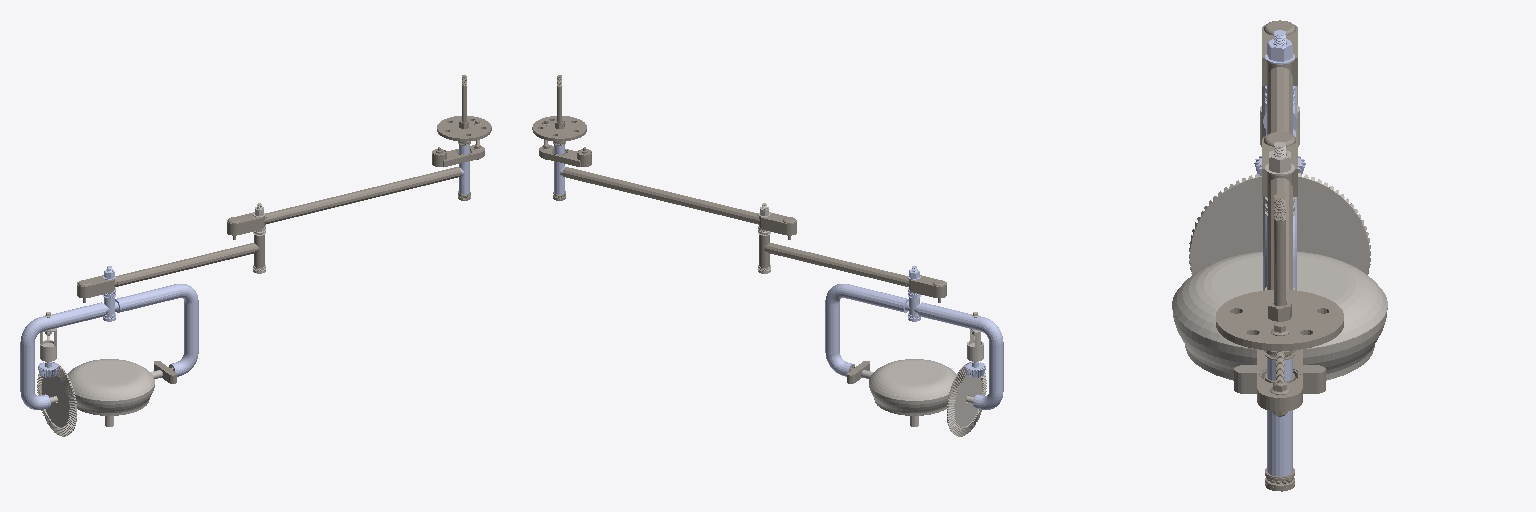
URDF robot description (ot2):
<?xml version="1.0" encoding="utf-8"?>
<!-- This URDF was automatically created by SolidWorks to URDF Exporter! Originally created by [author] ([email redacted]) 
     Commit Version: 1.6.0-1-g15f4949  Build Version: 1.6.7594.29634
     For more information, please see http://wiki.ros.org/sw_urdf_exporter -->
<robot
  name="ot2">
  <link
    name="b">
    <inertial>
      <origin
        xyz="-0.010823 0.051046 -9.2894E-09"
        rpy="0 0 0" />
      <mass
        value="0.59308" />
      <inertia
        ixx="0.0020054"
        ixy="-6.0542E-06"
        ixz="3.485E-09"
        iyy="0.0012416"
        iyz="-7.1475E-10"
        izz="0.0023392" />
    </inertial>
    <visual>
      <origin
        xyz="0 0 0"
        rpy="0 0 0" />
      <geometry>
        <mesh
          filename="package://ot2/meshes/b.STL" />
      </geometry>
      <material
        name="">
        <color
          rgba="0.64706 0.61961 0.58824 1" />
      </material>
    </visual>
    <collision>
      <origin
        xyz="0 0 0"
        rpy="0 0 0" />
      <geometry>
        <mesh
          filename="package://ot2/meshes/b.STL" />
      </geometry>
    </collision>
  </link>
  <link
    name="p1">
    <inertial>
      <origin
        xyz="0.0021162 -4.5735E-08 0.065639"
        rpy="0 0 0" />
      <mass
        value="0.036515" />
      <inertia
        ixx="8.7543E-05"
        ixy="2.8658E-11"
        ixz="-7.2267E-07"
        iyy="8.9539E-05"
        iyz="3.6532E-11"
        izz="1.1438E-05" />
    </inertial>
    <visual>
      <origin
        xyz="0 0 0"
        rpy="0 0 0" />
      <geometry>
        <mesh
          filename="package://ot2/meshes/p1.STL" />
      </geometry>
      <material
        name="">
        <color
          rgba="0.79216 0.81961 0.93333 1" />
      </material>
    </visual>
    <collision>
      <origin
        xyz="0 0 0"
        rpy="0 0 0" />
      <geometry>
        <mesh
          filename="package://ot2/meshes/p1.STL" />
      </geometry>
    </collision>
  </link>
  <joint
    name="p1_b"
    type="revolute">
    <origin
      xyz="0 0 0.0743"
      rpy="0 0 3.1416" />
    <parent
      link="b" />
    <child
      link="p1" />
    <axis
      xyz="0 0 0" />
    <limit
      lower="0"
      upper="0"
      effort="0"
      velocity="0" />
  </joint>
  <link
    name="p2">
    <inertial>
      <origin
        xyz="-0.00032582 8.1858E-05 0.094149"
        rpy="0 0 0" />
      <mass
        value="0.36223" />
      <inertia
        ixx="0.0059748"
        ixy="-2.3294E-06"
        ixz="6.0458E-06"
        iyy="0.0059661"
        iyz="-1.7128E-06"
        izz="0.00010437" />
    </inertial>
    <visual>
      <origin
        xyz="0 0 0"
        rpy="0 0 0" />
      <geometry>
        <mesh
          filename="package://ot2/meshes/p2.STL" />
      </geometry>
      <material
        name="">
        <color
          rgba="0.64706 0.61961 0.58824 1" />
      </material>
    </visual>
    <collision>
      <origin
        xyz="0 0 0"
        rpy="0 0 0" />
      <geometry>
        <mesh
          filename="package://ot2/meshes/p2.STL" />
      </geometry>
    </collision>
  </link>
  <joint
    name="p2_p1"
    type="fixed">
    <origin
      xyz="0.71934 0 0.075"
      rpy="-1.5708 -1.3246 1.5708" />
    <parent
      link="p1" />
    <child
      link="p2" />
    <axis
      xyz="0 0 0" />
  </joint>
  <link
    name="fs1">
    <inertial>
      <origin
        xyz="-3.0142E-07 -3.1812E-07 0.059484"
        rpy="0 0 0" />
      <mass
        value="0.095072" />
      <inertia
        ixx="0.00026624"
        ixy="5.1204E-11"
        ixz="-2.4543E-09"
        iyy="0.00026624"
        iyz="-3.3163E-09"
        izz="1.1619E-05" />
    </inertial>
    <visual>
      <origin
        xyz="0 0 0"
        rpy="0 0 0" />
      <geometry>
        <mesh
          filename="package://ot2/meshes/fs1.STL" />
      </geometry>
      <material
        name="">
        <color
          rgba="0.77647 0.75686 0.73725 1" />
      </material>
    </visual>
    <collision>
      <origin
        xyz="0 0 0"
        rpy="0 0 0" />
      <geometry>
        <mesh
          filename="package://ot2/meshes/fs1.STL" />
      </geometry>
    </collision>
  </link>
  <joint
    name="fs1_p2"
    type="fixed">
    <origin
      xyz="0 0 -0.018607"
      rpy="1.5708 1.0442 1.3246" />
    <parent
      link="p2" />
    <child
      link="fs1" />
    <axis
      xyz="0 0 -1" />
  </joint>
  <link
    name="p3">
    <inertial>
      <origin
        xyz="0.0015452 2.1459E-09 0.01106"
        rpy="0 0 0" />
      <mass
        value="0.080238" />
      <inertia
        ixx="8.5759E-05"
        ixy="1.2391E-11"
        ixz="-1.127E-06"
        iyy="8.8667E-05"
        iyz="-5.025E-11"
        izz="1.7543E-05" />
    </inertial>
    <visual>
      <origin
        xyz="0 0 0"
        rpy="0 0 0" />
      <geometry>
        <mesh
          filename="package://ot2/meshes/p3.STL" />
      </geometry>
      <material
        name="">
        <color
          rgba="0.64706 0.61961 0.58824 1" />
      </material>
    </visual>
    <collision>
      <origin
        xyz="0 0 0"
        rpy="0 0 0" />
      <geometry>
        <mesh
          filename="package://ot2/meshes/p3.STL" />
      </geometry>
    </collision>
  </link>
  <joint
    name="p3_fs1"
    type="revolute">
    <origin
      xyz="0 0 0.11015"
      rpy="3.1416 0 -0.52661" />
    <parent
      link="fs1" />
    <child
      link="p3" />
    <axis
      xyz="0 0 0" />
    <limit
      lower="0"
      upper="0"
      effort="0"
      velocity="0" />
  </joint>
  <link
    name="p4">
    <inertial>
      <origin
        xyz="0.00010814 -0.00036209 0.030022"
        rpy="0 0 0" />
      <mass
        value="0.32202" />
      <inertia
        ixx="0.0023086"
        ixy="-2.6763E-06"
        ixz="-1.8378E-06"
        iyy="0.0023168"
        iyz="6.0062E-06"
        izz="9.3937E-05" />
    </inertial>
    <visual>
      <origin
        xyz="0 0 0"
        rpy="0 0 0" />
      <geometry>
        <mesh
          filename="package://ot2/meshes/p4.STL" />
      </geometry>
      <material
        name="">
        <color
          rgba="0.64706 0.61961 0.58824 1" />
      </material>
    </visual>
    <collision>
      <origin
        xyz="0 0 0"
        rpy="0 0 0" />
      <geometry>
        <mesh
          filename="package://ot2/meshes/p4.STL" />
      </geometry>
    </collision>
  </link>
  <joint
    name="p4_p3"
    type="fixed">
    <origin
      xyz="0.52 0 0.020149"
      rpy="-1.5708 -0.2902 1.5708" />
    <parent
      link="p3" />
    <child
      link="p4" />
    <axis
      xyz="0 0 0" />
  </joint>
  <link
    name="fs2">
    <inertial>
      <origin
        xyz="2.2662E-07 -4.4331E-07 -0.037957"
        rpy="0 0 0" />
      <mass
        value="0.083723" />
      <inertia
        ixx="0.00013457"
        ixy="-3.549E-11"
        ixz="-9.4596E-10"
        iyy="0.00013457"
        iyz="2.9341E-09"
        izz="1.1209E-05" />
    </inertial>
    <visual>
      <origin
        xyz="0 0 0"
        rpy="0 0 0" />
      <geometry>
        <mesh
          filename="package://ot2/meshes/fs2.STL" />
      </geometry>
      <material
        name="">
        <color
          rgba="0.79216 0.81961 0.93333 1" />
      </material>
    </visual>
    <collision>
      <origin
        xyz="0 0 0"
        rpy="0 0 0" />
      <geometry>
        <mesh
          filename="package://ot2/meshes/fs2.STL" />
      </geometry>
    </collision>
  </link>
  <joint
    name="fs2_p4"
    type="fixed">
    <origin
      xyz="0 0 -0.02"
      rpy="1.5708 0.8762 0.2902" />
    <parent
      link="p4" />
    <child
      link="fs2" />
    <axis
      xyz="0 0 -1" />
  </joint>
  <link
    name="p5">
    <inertial>
      <origin
        xyz="-5.7425E-08 -1.9679E-08 0.013278"
        rpy="0 0 0" />
      <mass
        value="0.017945" />
      <inertia
        ixx="6.984E-06"
        ixy="6.7418E-11"
        ixz="7.7363E-11"
        iyy="1.134E-05"
        iyz="1.985E-11"
        izz="8.9877E-06" />
    </inertial>
    <visual>
      <origin
        xyz="0 0 0"
        rpy="0 0 0" />
      <geometry>
        <mesh
          filename="package://ot2/meshes/p5.STL" />
      </geometry>
      <material
        name="">
        <color
          rgba="0.79216 0.81961 0.93333 1" />
      </material>
    </visual>
    <collision>
      <origin
        xyz="0 0 0"
        rpy="0 0 0" />
      <geometry>
        <mesh
          filename="package://ot2/meshes/p5.STL" />
      </geometry>
    </collision>
  </link>
  <joint
    name="p5_fs2"
    type="revolute">
    <origin
      xyz="0 0 -0.064149"
      rpy="3.1416 0 -0.69459" />
    <parent
      link="fs2" />
    <child
      link="p5" />
    <axis
      xyz="0 0 0" />
    <limit
      lower="0"
      upper="0"
      effort="0"
      velocity="0" />
  </joint>
  <link
    name="g">
    <inertial>
      <origin
        xyz="-0.02462 -0.085027 -1.5042E-07"
        rpy="0 0 0" />
      <mass
        value="0.98684" />
      <inertia
        ixx="0.010006"
        ixy="8.2606E-07"
        ixz="1.3795E-08"
        iyy="0.0073409"
        iyz="9.0497E-09"
        izz="0.016985" />
    </inertial>
    <visual>
      <origin
        xyz="0 0 0"
        rpy="0 0 0" />
      <geometry>
        <mesh
          filename="package://ot2/meshes/g.STL" />
      </geometry>
      <material
        name="">
        <color
          rgba="0.79216 0.81961 0.93333 1" />
      </material>
    </visual>
    <collision>
      <origin
        xyz="0 0 0"
        rpy="0 0 0" />
      <geometry>
        <mesh
          filename="package://ot2/meshes/g.STL" />
      </geometry>
    </collision>
  </link>
  <joint
    name="g_p5"
    type="fixed">
    <origin
      xyz="-0.025 0 0.02"
      rpy="-1.5708 0 3.1416" />
    <parent
      link="p5" />
    <child
      link="g" />
    <axis
      xyz="0 0 0" />
  </joint>
  <link
    name="mh">
    <inertial>
      <origin
        xyz="0.081478 -2.8024E-10 -1.2284E-11"
        rpy="0 0 0" />
      <mass
        value="0.11979" />
      <inertia
        ixx="4.0756E-05"
        ixy="6.2834E-13"
        ixz="4.5777E-15"
        iyy="8.5021E-05"
        iyz="2.6988E-06"
        izz="8.6176E-05" />
    </inertial>
    <visual>
      <origin
        xyz="0 0 0"
        rpy="0 0 0" />
      <geometry>
        <mesh
          filename="package://ot2/meshes/mh.STL" />
      </geometry>
      <material
        name="">
        <color
          rgba="0.77647 0.75686 0.73725 1" />
      </material>
    </visual>
    <collision>
      <origin
        xyz="0 0 0"
        rpy="0 0 0" />
      <geometry>
        <mesh
          filename="package://ot2/meshes/mh.STL" />
      </geometry>
    </collision>
  </link>
  <joint
    name="mh_g"
    type="fixed">
    <origin
      xyz="-0.245 0 0"
      rpy="1.4192 0 -1.5708" />
    <parent
      link="g" />
    <child
      link="mh" />
    <axis
      xyz="-1 0 0" />
  </joint>
  <link
    name="pi">
    <inertial>
      <origin
        xyz="-1.7824E-10 1.0497E-10 0.052279"
        rpy="0 0 0" />
      <mass
        value="0.066369" />
      <inertia
        ixx="1.8605E-05"
        ixy="4.3118E-15"
        ixz="2.2584E-13"
        iyy="1.8605E-05"
        iyz="-4.0191E-13"
        izz="2.5445E-05" />
    </inertial>
    <visual>
      <origin
        xyz="0 0 0"
        rpy="0 0 0" />
      <geometry>
        <mesh
          filename="package://ot2/meshes/pi.STL" />
      </geometry>
      <material
        name="">
        <color
          rgba="0.79216 0.81961 0.93333 1" />
      </material>
    </visual>
    <collision>
      <origin
        xyz="0 0 0"
        rpy="0 0 0" />
      <geometry>
        <mesh
          filename="package://ot2/meshes/pi.STL" />
      </geometry>
    </collision>
  </link>
  <joint
    name="pi_mh"
    type="revolute">
    <origin
      xyz="0.1075 0 0"
      rpy="1.5708 1.3666 1.5708" />
    <parent
      link="mh" />
    <child
      link="pi" />
    <axis
      xyz="0 0 -1" />
    <limit
      lower="0"
      upper="0"
      effort="0"
      velocity="0" />
  </joint>
  <link
    name="cr">
    <inertial>
      <origin
        xyz="-0.16855 -0.0011496 0.0012013"
        rpy="0 0 0" />
      <mass
        value="5.121" />
      <inertia
        ixx="0.026495"
        ixy="-2.1816E-08"
        ixz="2.2425E-08"
        iyy="0.034011"
        iyz="-0.0089322"
        izz="0.034799" />
    </inertial>
    <visual>
      <origin
        xyz="0 0 0"
        rpy="0 0 0" />
      <geometry>
        <mesh
          filename="package://ot2/meshes/cr.STL" />
      </geometry>
      <material
        name="">
        <color
          rgba="0.77647 0.75686 0.73725 1" />
      </material>
    </visual>
    <collision>
      <origin
        xyz="0 0 0"
        rpy="0 0 0" />
      <geometry>
        <mesh
          filename="package://ot2/meshes/cr.STL" />
      </geometry>
    </collision>
  </link>
  <joint
    name="cr_pi"
    type="revolute">
    <origin
      xyz="0.035842 -0.0018867 0.1625"
      rpy="2.3782 0 3.089" />
    <parent
      link="pi" />
    <child
      link="cr" />
    <axis
      xyz="0 0 0" />
    <limit
      lower="0"
      upper="0"
      effort="0"
      velocity="0" />
  </joint>
  <link
    name="dc">
    <inertial>
      <origin
        xyz="4.3553E-06 -0.0019065 0.013922"
        rpy="0 0 0" />
      <mass
        value="0.096334" />
      <inertia
        ixx="1.653E-05"
        ixy="-1.2019E-12"
        ixz="-4.4707E-09"
        iyy="9.728E-05"
        iyz="-6.6213E-17"
        izz="0.00010142" />
    </inertial>
    <visual>
      <origin
        xyz="0 0 0"
        rpy="0 0 0" />
      <geometry>
        <mesh
          filename="package://ot2/meshes/dc.STL" />
      </geometry>
      <material
        name="">
        <color
          rgba="0.64706 0.61961 0.6 1" />
      </material>
    </visual>
    <collision>
      <origin
        xyz="0 0 0"
        rpy="0 0 0" />
      <geometry>
        <mesh
          filename="package://ot2/meshes/dc.STL" />
      </geometry>
    </collision>
  </link>
  <joint
    name="dc_cr"
    type="fixed">
    <origin
      xyz="-0.38455 -0.010371 0.010838"
      rpy="3.1416 -0.76338 1.5708" />
    <parent
      link="cr" />
    <child
      link="dc" />
    <axis
      xyz="0 0 0" />
  </joint>

  <link name="world" />
  <joint name="ceiling_joint" type="fixed">
    <origin xyz="0.5 0.5 1.5" rpy=" 3.14159 0 0" />
    <parent link="world" />
    <child link="b" />
  </joint>
</robot>

--- What the picture shows (computed from the rendered views, not written in the file) ---
3 views of the same robot in one strip: view 1: azimuth 30°, elevation 25°; view 2: azimuth 150°, elevation 25°; view 3: azimuth 270°, elevation 25° (orthographic).
Robot: ot2 — 14 links, 13 joints (5 revolute, 8 fixed); root link world; default pose: every joint at zero.
Visible links, largest first — view 1: cr, g, p2, b, p4; view 2: cr, g, p2, b, p4; view 3: cr, b, p4, p2, p1, dc, g, fs2, fs1.
Boxes of the visible links, left/top/right/bottom form: cr: left=37, top=359, right=162, bottom=436; g: left=20, top=284, right=198, bottom=409; p2: left=227, top=167, right=461, bottom=239; b: left=432, top=75, right=491, bottom=200; p4: left=77, top=243, right=256, bottom=302; cr: left=861, top=359, right=986, bottom=436; g: left=825, top=284, right=1003, bottom=409; p2: left=562, top=167, right=796, bottom=239; b: left=532, top=75, right=591, bottom=200; p4: left=767, top=243, right=946, bottom=302; cr: left=1172, top=173, right=1387, bottom=380; b: left=1216, top=194, right=1343, bottom=491; p4: left=1262, top=20, right=1297, bottom=134; p2: left=1262, top=132, right=1297, bottom=289; p1: left=1267, top=358, right=1292, bottom=476; dc: left=1234, top=365, right=1325, bottom=393; g: left=1263, top=86, right=1296, bottom=290; fs2: left=1265, top=30, right=1294, bottom=104; fs1: left=1265, top=142, right=1294, bottom=290.
Bounding box of the posed robot: 1.68 × 0.2846 × 0.9031 m (x, y, z).
Meshes: 13 distinct files referenced, 13 mesh visuals loaded (13 binary STL).